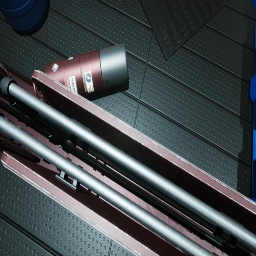NitrogenTank ,: (33, 43, 128, 102)
